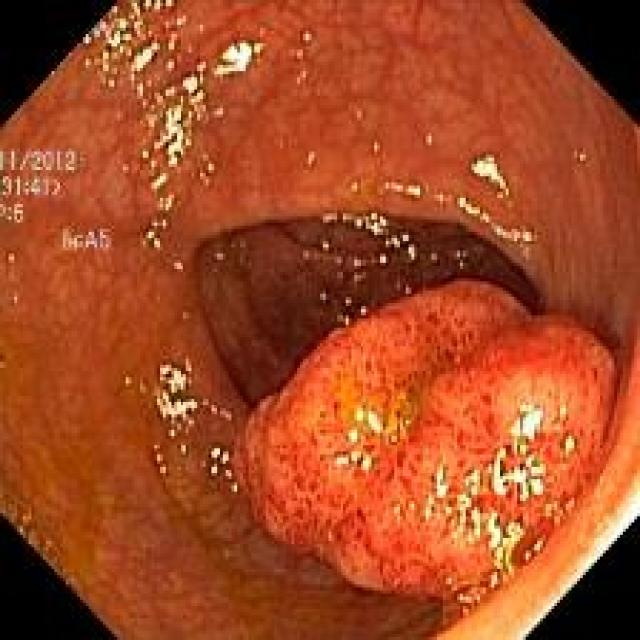Polyps: (236, 281, 616, 611)
